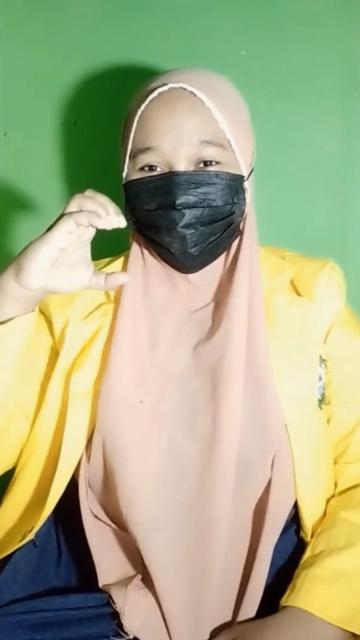C: (1, 190, 138, 302)
